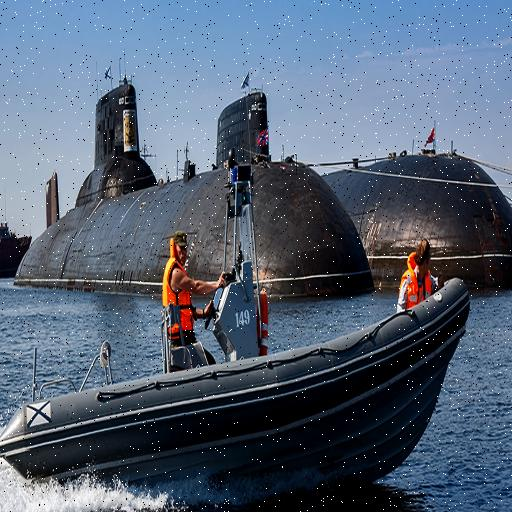submarine: (7, 81, 380, 298), (203, 69, 512, 295)
